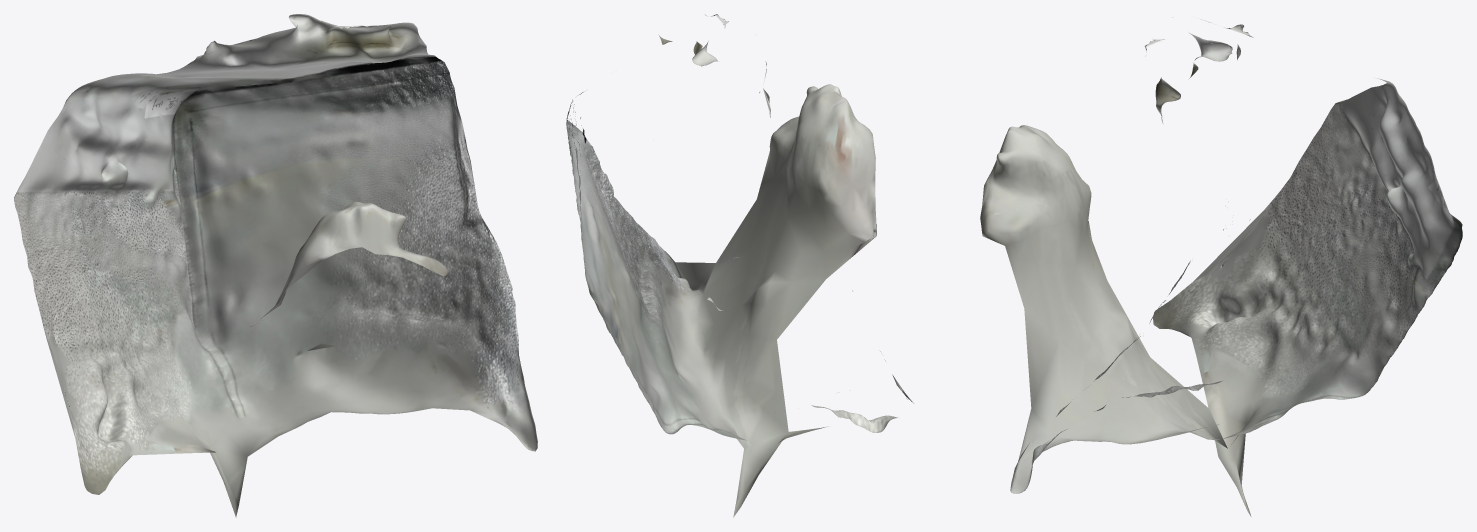
3 views of the same model, side by side, from view 1: azimuth 30°, elevation 25°; view 2: azimuth 150°, elevation 25°; view 3: azimuth 270°, elevation 25° (orthographic). The views are drawn at different scales.
Size of the model in its own units: 1.07 by 1.31 by 1.12.
1 material, 1 textured.
